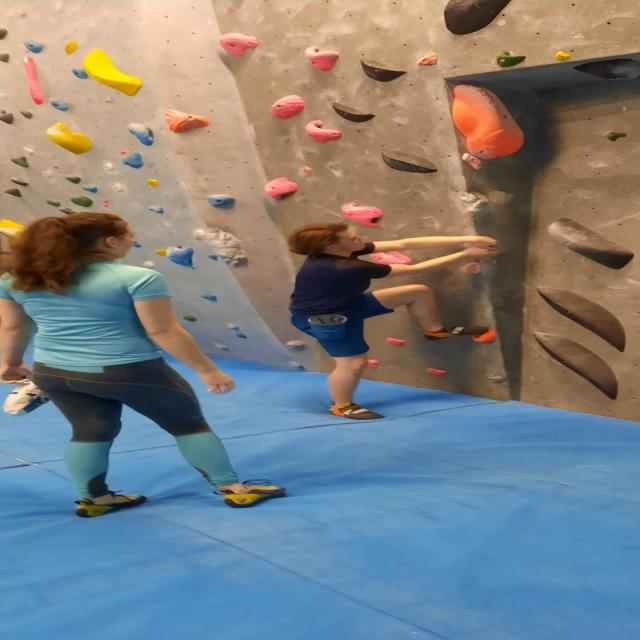Jug: (339, 201, 384, 230), (302, 118, 345, 146), (217, 29, 260, 56), (268, 92, 308, 121), (306, 46, 346, 74), (121, 121, 161, 146), (263, 176, 302, 200), (494, 51, 530, 74), (206, 190, 239, 210)
Pocket: (164, 242, 200, 264), (117, 152, 148, 169)
Sloper: (533, 284, 638, 352), (444, 81, 530, 163), (528, 329, 622, 402), (547, 216, 639, 273), (81, 48, 147, 98), (438, 0, 516, 39), (45, 121, 97, 157), (382, 148, 438, 176), (23, 54, 48, 110), (162, 105, 212, 133), (358, 58, 407, 84), (327, 102, 380, 122)
